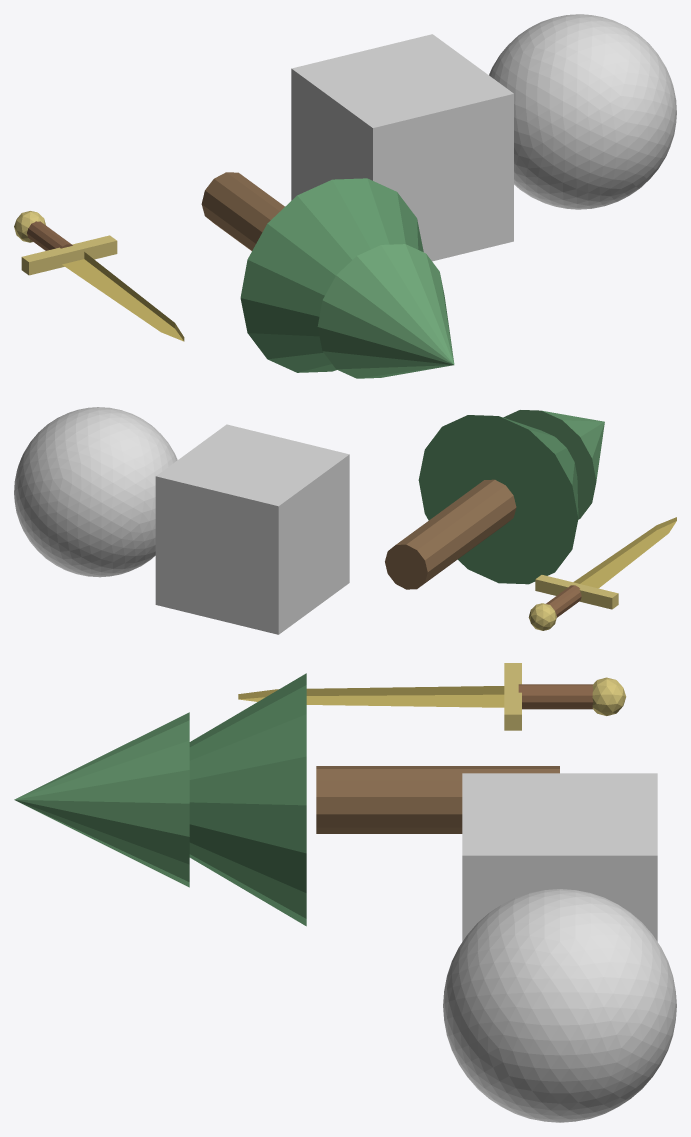
The model's file is giant_golden_sword__tree__cube__and_orb.glb.
3 views of the same model, one above another, from view 1: azimuth 30°, elevation 25°; view 2: azimuth 150°, elevation 25°; view 3: azimuth 270°, elevation 25° (orthographic). The views are drawn at different scales.
Visible parts, largest first — view 1: cube_2_0, sphere_3_0, tree_1_1, tree_1_2, tree_1_0, sword_0_0, sword_0_1, sword_0_2; view 2: cube_2_0, sphere_3_0, tree_1_1, tree_1_0, tree_1_2, sword_0_0, sword_0_1, sword_0_3, sword_0_2; view 3: sphere_3_0, cube_2_0, tree_1_1, tree_1_2, tree_1_0, sword_0_0, sword_0_2, sword_0_1, sword_0_3.
Boxes of the visible parts, bbox=[...] form: cube_2_0: bbox=[291, 34, 513, 261]; sphere_3_0: bbox=[489, 14, 676, 209]; tree_1_1: bbox=[240, 178, 423, 372]; tree_1_2: bbox=[317, 244, 454, 378]; tree_1_0: bbox=[201, 172, 284, 250]; sword_0_0: bbox=[62, 252, 184, 341]; sword_0_1: bbox=[21, 235, 117, 275]; sword_0_2: bbox=[27, 221, 72, 250]; cube_2_0: bbox=[155, 424, 349, 634]; sphere_3_0: bbox=[14, 407, 177, 577]; tree_1_1: bbox=[418, 415, 578, 584]; tree_1_0: bbox=[385, 479, 516, 589]; tree_1_2: bbox=[503, 410, 604, 519]; sword_0_0: bbox=[573, 517, 676, 588]; sword_0_1: bbox=[535, 575, 618, 609]; sword_0_3: bbox=[528, 603, 556, 630]; sword_0_2: bbox=[546, 585, 581, 617]; sphere_3_0: bbox=[443, 889, 676, 1122]; cube_2_0: bbox=[462, 773, 657, 941]; tree_1_1: bbox=[189, 673, 306, 926]; tree_1_2: bbox=[14, 712, 189, 887]; tree_1_0: bbox=[316, 766, 559, 833]; sword_0_0: bbox=[238, 686, 504, 707]; sword_0_2: bbox=[518, 684, 593, 709]; sword_0_1: bbox=[504, 663, 521, 730]; sword_0_3: bbox=[592, 677, 626, 715].
Size of the model in its own units: 18.65 by 5.2 by 13.6.
